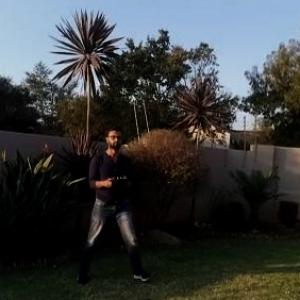follow: (68, 119, 151, 286)
